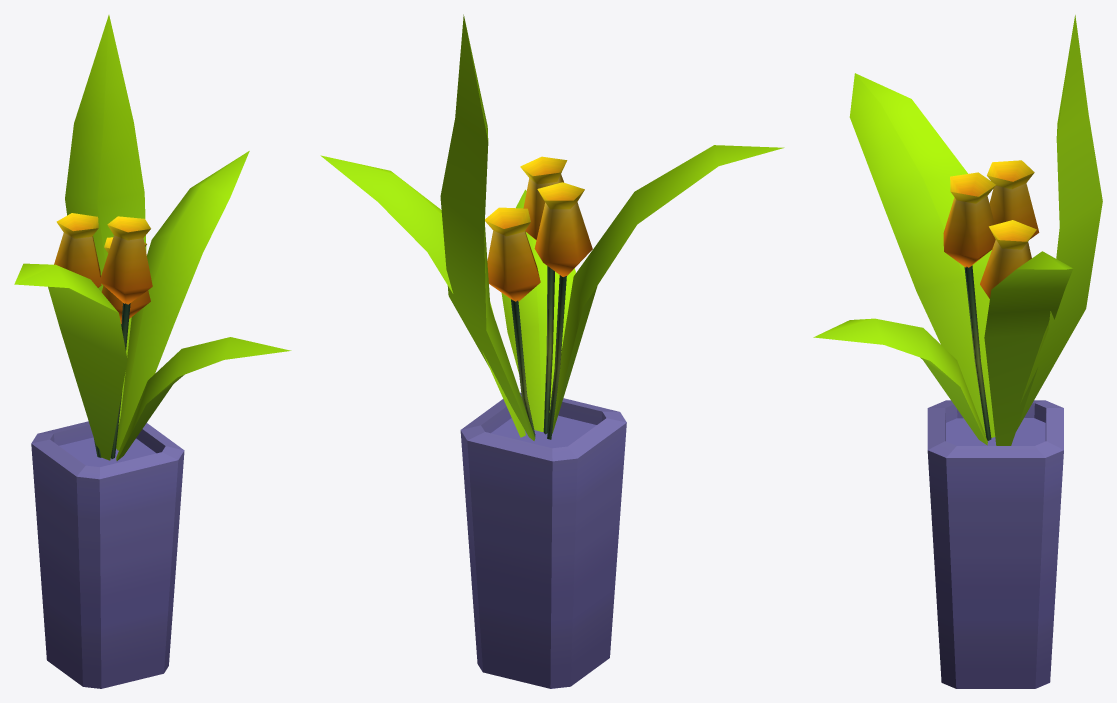
The model's file is Plant_Pot_02.fbx.
3 views of the same model, side by side, from view 1: azimuth 30°, elevation 25°; view 2: azimuth 150°, elevation 25°; view 3: azimuth 270°, elevation 25° (orthographic). The views are drawn at different scales.
Visible parts, largest first — view 1: Plant_Pot_02; view 2: Plant_Pot_02; view 3: Plant_Pot_02.
Part boxes in pixels (x1=…): Plant_Pot_02: x1=14, y1=15, x2=291, y2=688; Plant_Pot_02: x1=320, y1=14, x2=784, y2=688; Plant_Pot_02: x1=813, y1=15, x2=1102, y2=688.
Size of the model in its own units: 106 by 187 by 73.
1 material, 1 textured.
